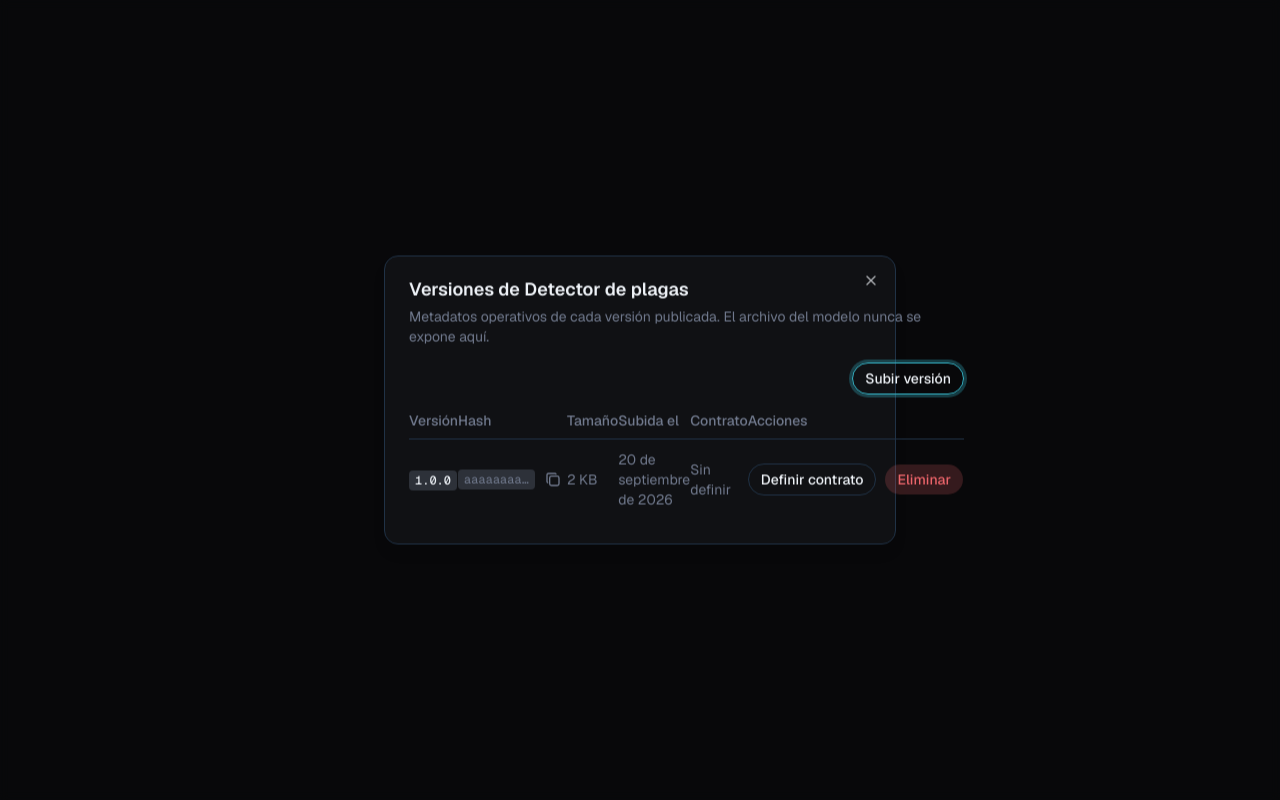
Test case: ModelVersionsDialog › requires choosing the score type of a new segmentation contract (US-158)
Click the button "Definir contrato".
click(812, 480)  # box [748,464,876,496]
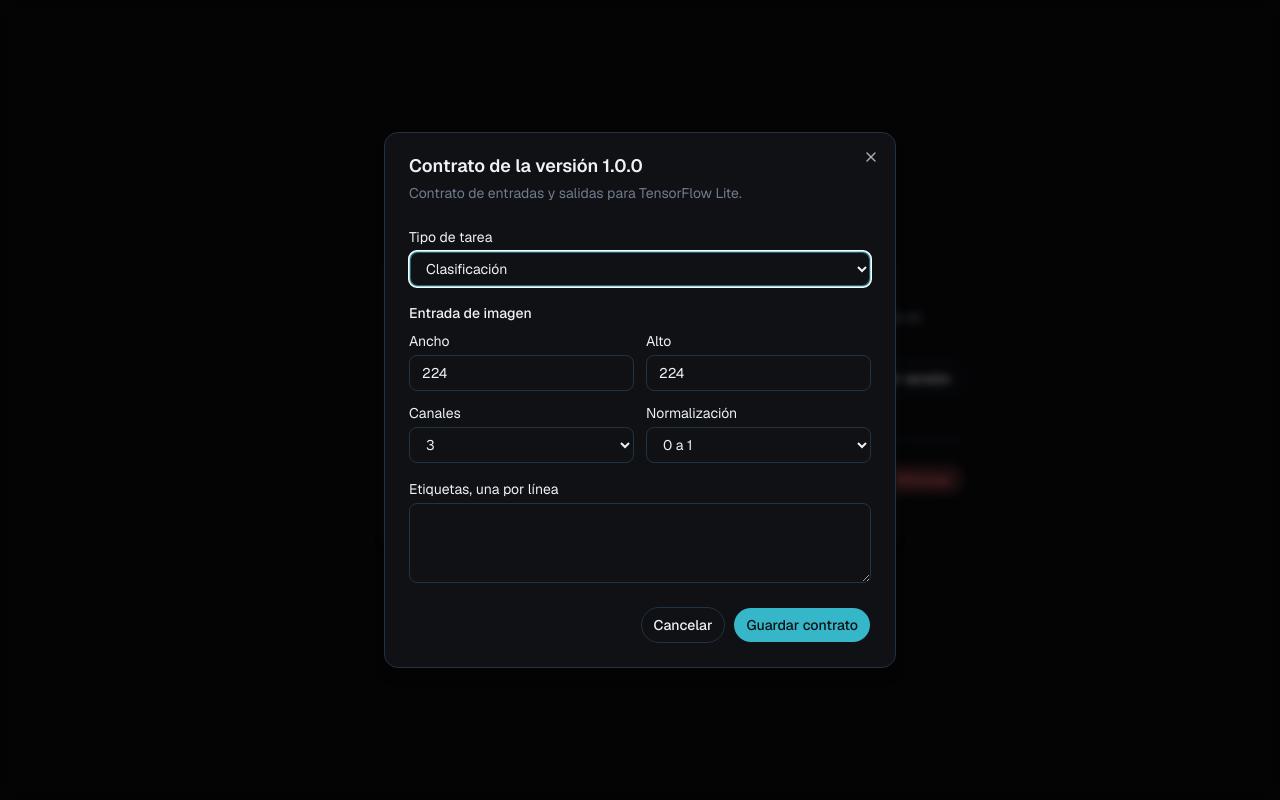
Select "Segmentación" in the dropdown labelled "Tipo de tarea" at (640, 269), box [409,251,871,287]
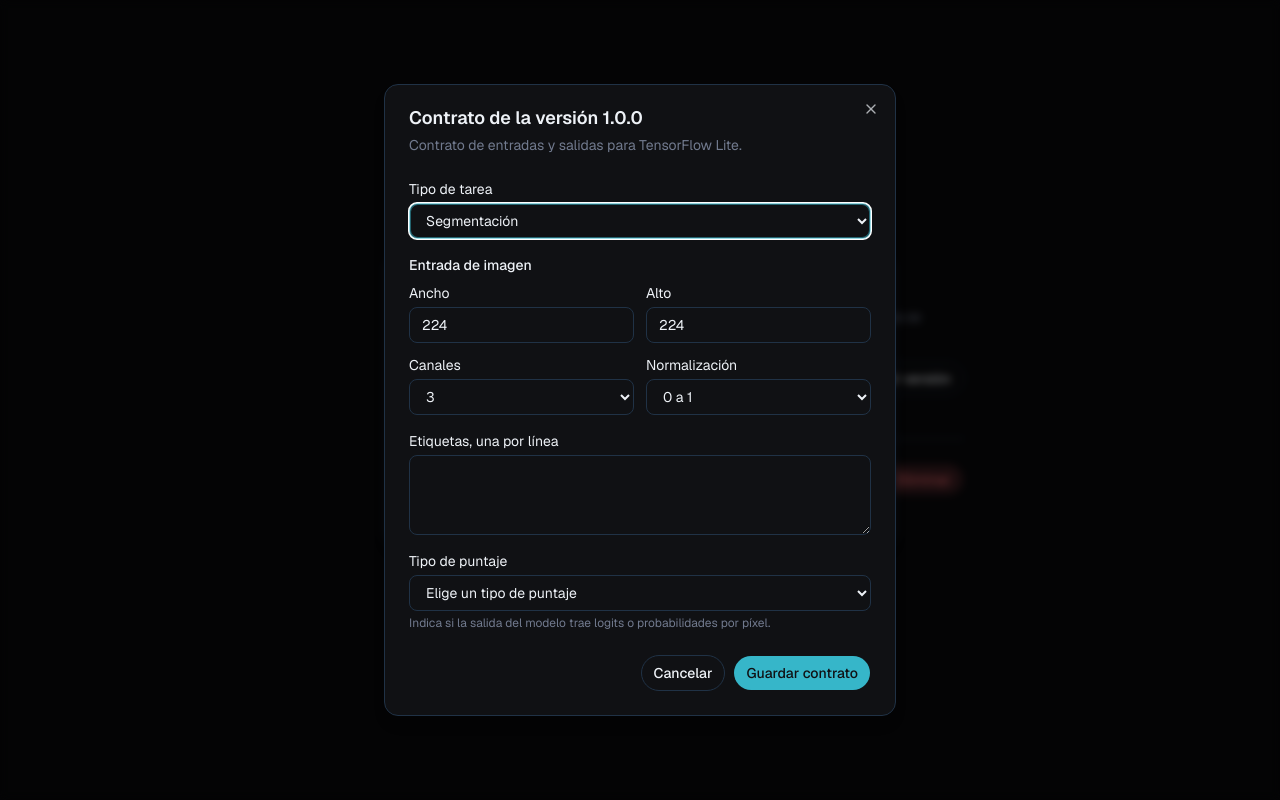
Expected: the dropdown labelled "Tipo de puntaje" shows "Elige un tipo de puntaje", [409,575,871,611]
Type "fondo" into the text box labelled "Etiquetas, una por línea".
click(640, 495); type("fondo")  # box [409,455,871,535]
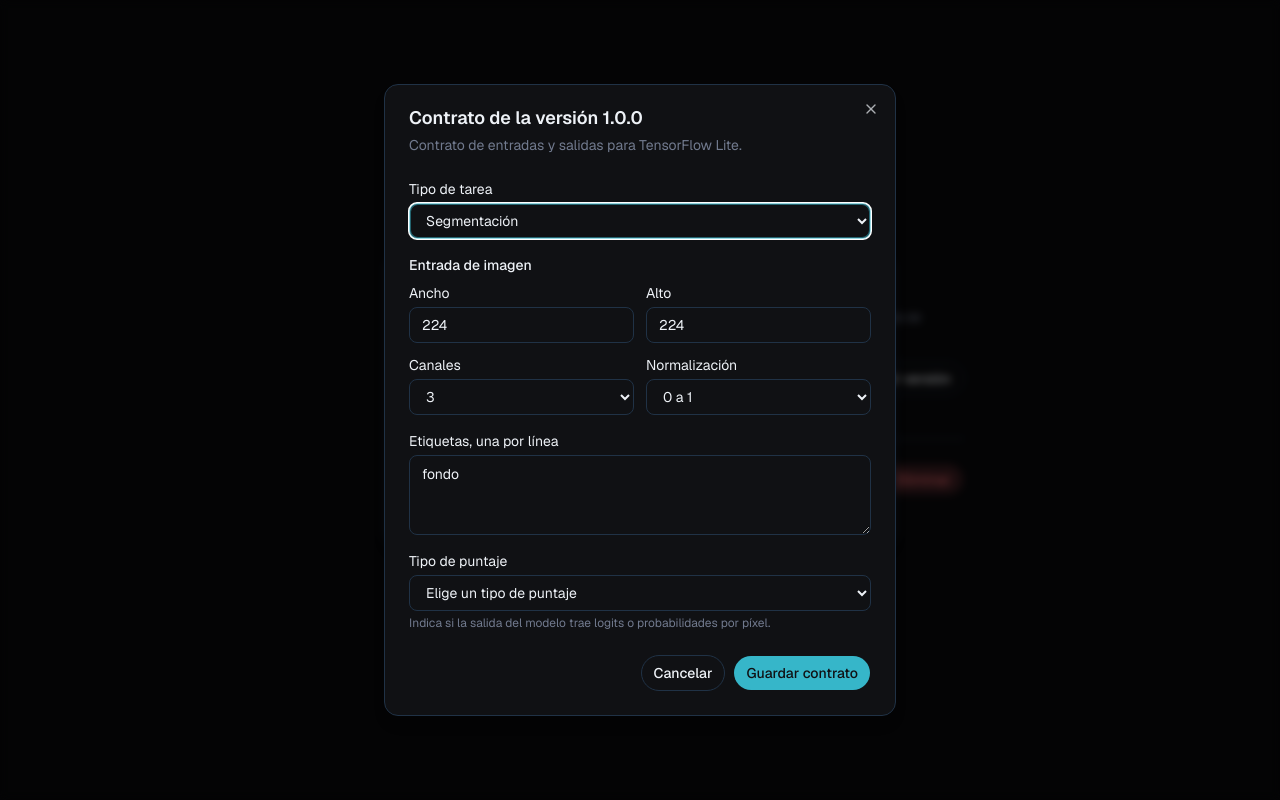
Click the button "Guardar contrato".
click(802, 673)  # box [734,655,871,691]
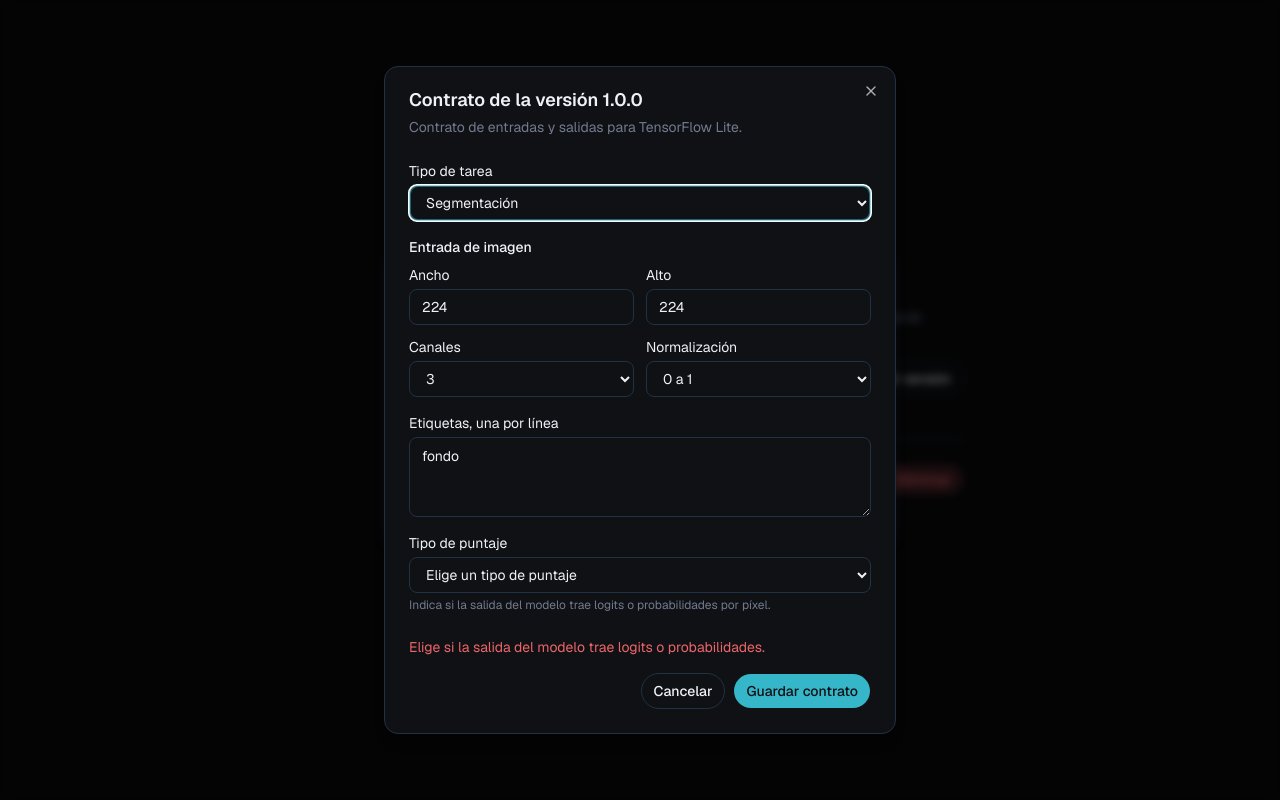
Expected: the message reads "Elige si la salida del modelo trae logits o probabilidades.", [409,638,765,656]
